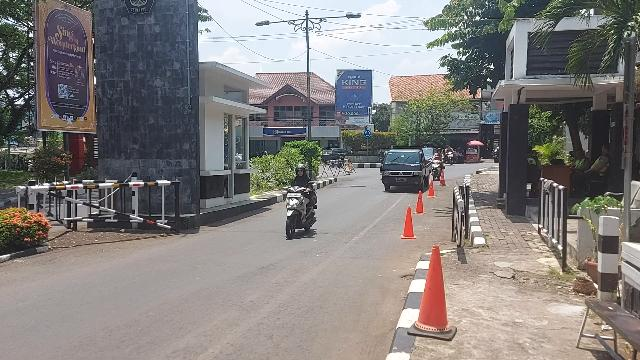helm: (296, 164, 308, 178)
motor: (282, 180, 319, 240)
